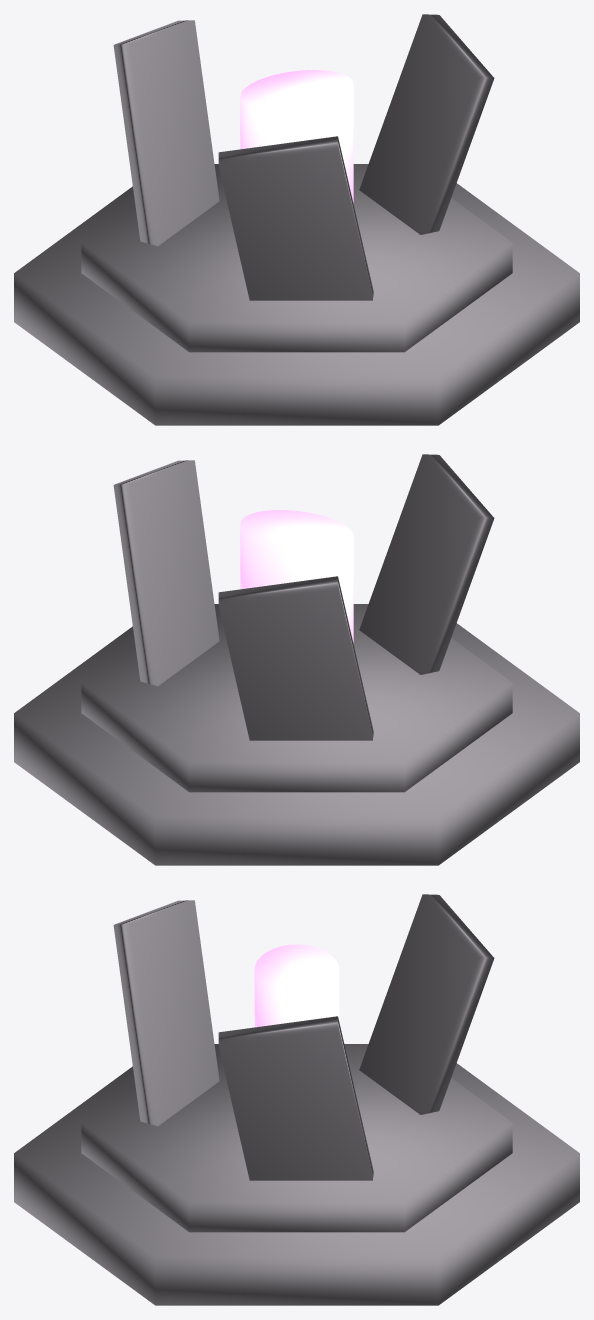
File: prop_butterfly_mana_shrine.glb
3 views of the same model, one above another, from view 1: azimuth 30°, elevation 25°; view 2: azimuth 150°, elevation 25°; view 3: azimuth 270°, elevation 25° (orthographic).
Visible parts, largest first — view 1: Shrine_Terrace_1, Shrine_Terrace_2, Butterfly_Wing_Stele_3, Butterfly_Wing_Stele_2, Butterfly_Wing_Stele_1, Great_Mana_Chrysalis; view 2: Shrine_Terrace_1, Shrine_Terrace_2, Butterfly_Wing_Stele_2, Butterfly_Wing_Stele_1, Butterfly_Wing_Stele_3, Great_Mana_Chrysalis; view 3: Shrine_Terrace_1, Shrine_Terrace_2, Butterfly_Wing_Stele_1, Butterfly_Wing_Stele_3, Butterfly_Wing_Stele_2, Great_Mana_Chrysalis.
Part boxes in pixels (x1,y1,x2,y2): Shrine_Terrace_1: (14,183,579,425); Shrine_Terrace_2: (81,164,512,352); Butterfly_Wing_Stele_3: (218,136,373,300); Butterfly_Wing_Stele_2: (113,20,219,246); Butterfly_Wing_Stele_1: (359,14,494,234); Great_Mana_Chrysalis: (240,70,353,203); Shrine_Terrace_1: (14,623,579,865); Shrine_Terrace_2: (81,604,512,792); Butterfly_Wing_Stele_2: (218,576,373,740); Butterfly_Wing_Stele_1: (113,460,219,686); Butterfly_Wing_Stele_3: (359,454,494,674); Great_Mana_Chrysalis: (240,510,353,643); Shrine_Terrace_1: (14,1063,579,1305); Shrine_Terrace_2: (81,1044,512,1232); Butterfly_Wing_Stele_1: (218,1016,373,1180); Butterfly_Wing_Stele_3: (113,900,219,1126); Butterfly_Wing_Stele_2: (359,894,494,1114); Great_Mana_Chrysalis: (254,944,339,1027).
Size of the model in its own units: 7.27 by 4.21 by 8.4.
